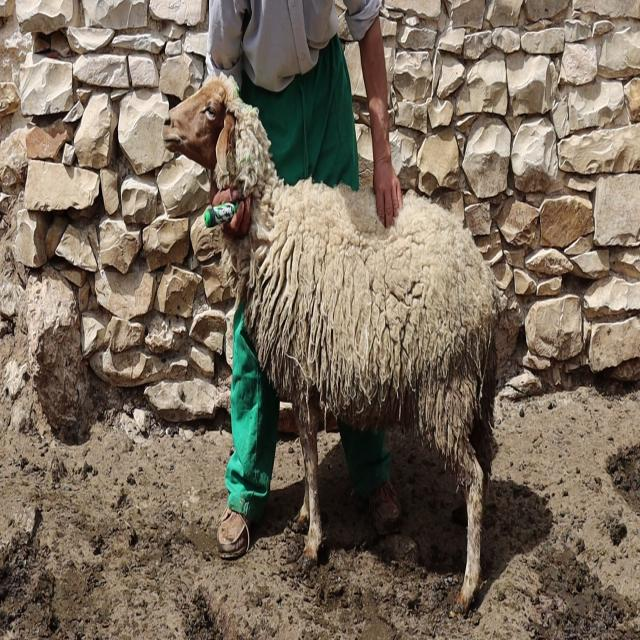Score_3: (163, 76, 506, 610)
